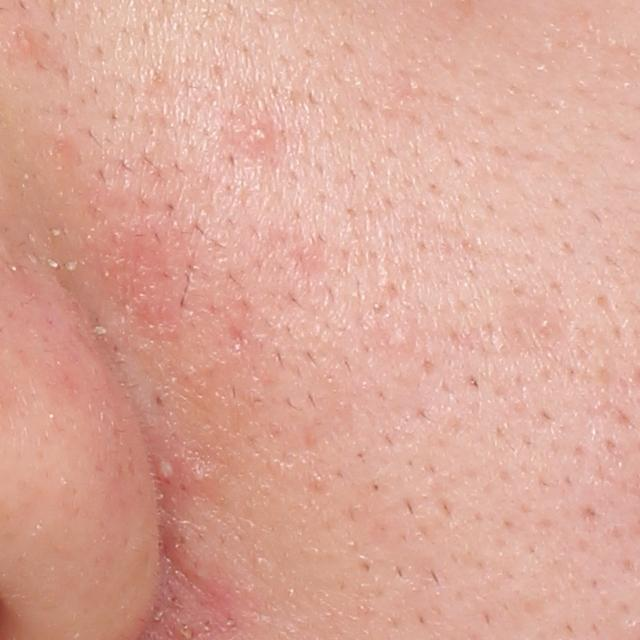pustule: (234, 119, 275, 148), (153, 458, 176, 482)
